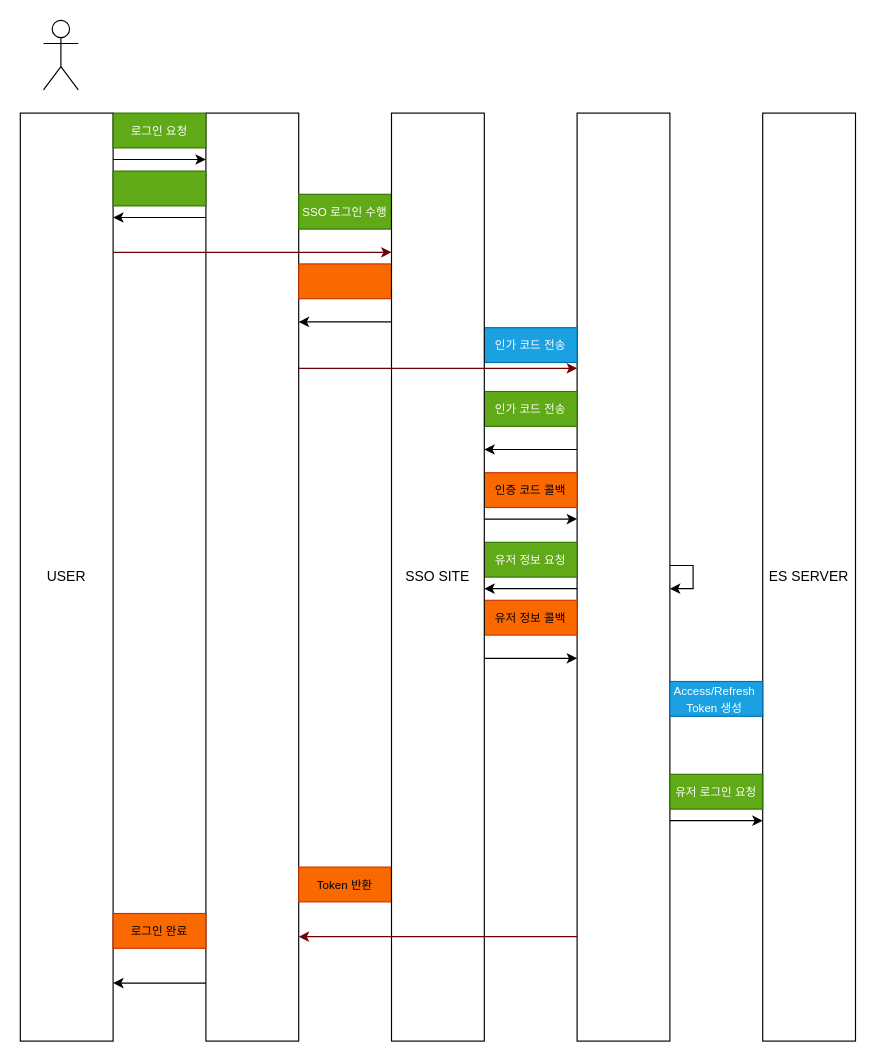
Some shapes in this 876 by 1061 pixel diagram are drawn without their labels. The centre of each missing label's shape, as x and y in pixels:
Actor: [60,54]
BACKEND SERVER: [623,576]
Front Web Page: [252,576]
SSO 로그인 요청: [159,188]
인가 코드 반환: [345,281]
